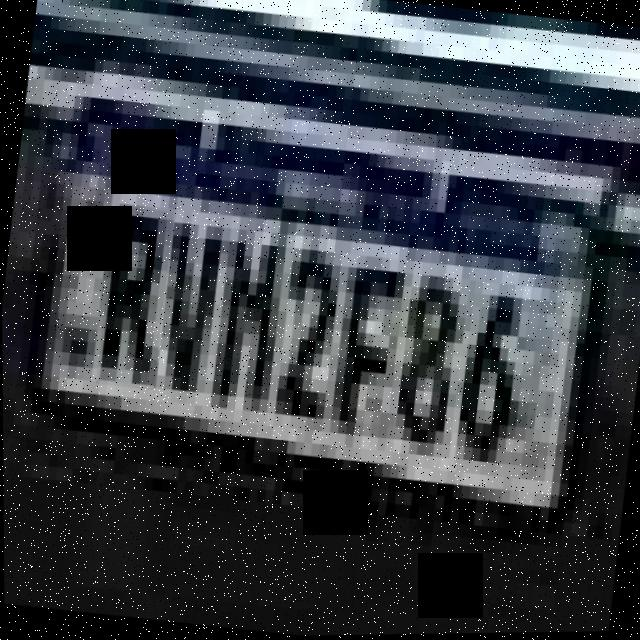6: (452, 280, 535, 471)
8: (390, 273, 471, 450)
F: (327, 256, 410, 447)
M: (209, 225, 287, 415)
R: (93, 205, 174, 392)
V: (152, 219, 228, 413)
